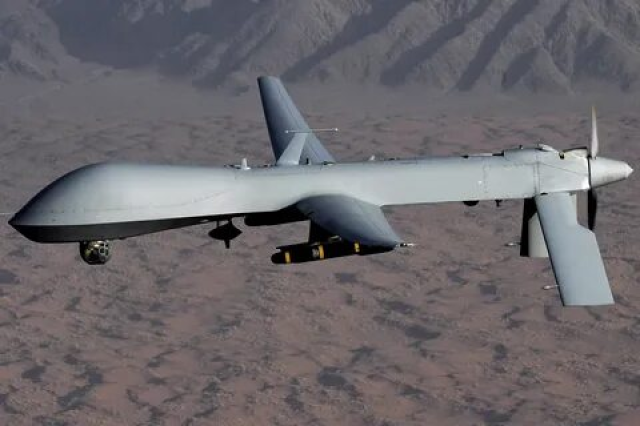military drone: (7, 76, 634, 306)
